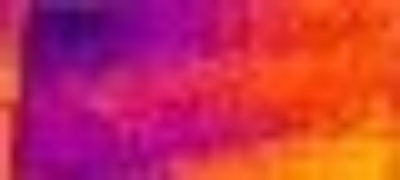Shadow: (24, 1, 132, 180), (131, 1, 223, 70)
